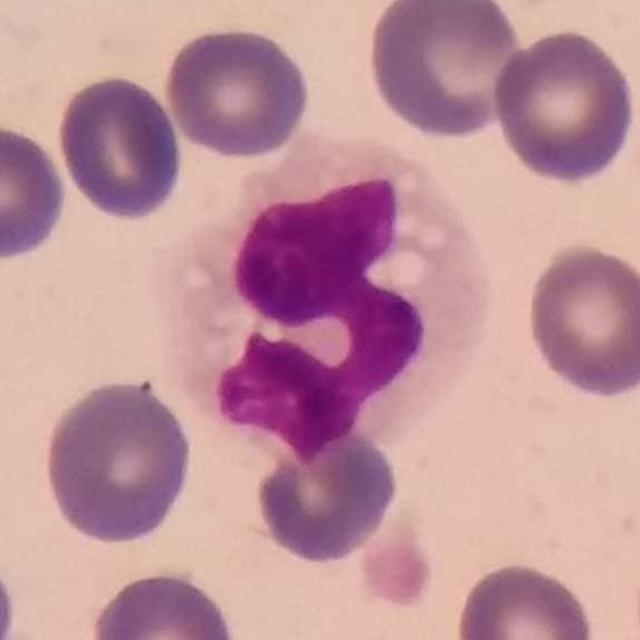mono: (154, 126, 495, 482)
